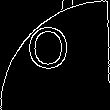O_S: (34, 30, 76, 80)
